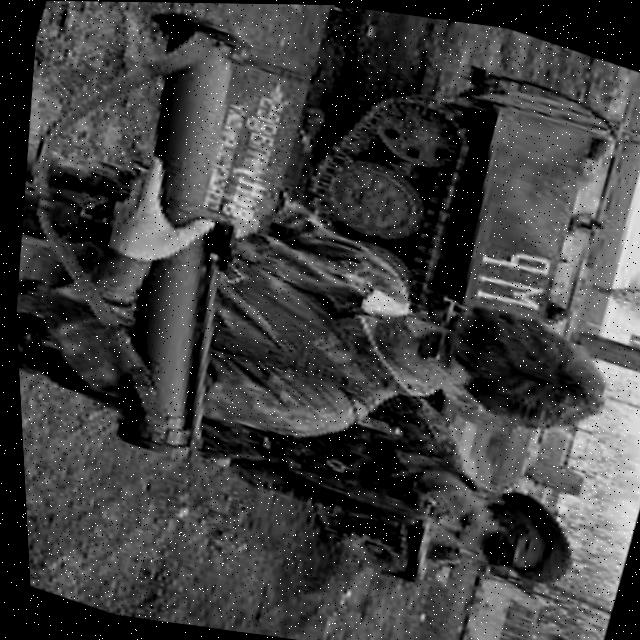rocket: (21, 0, 330, 477)
